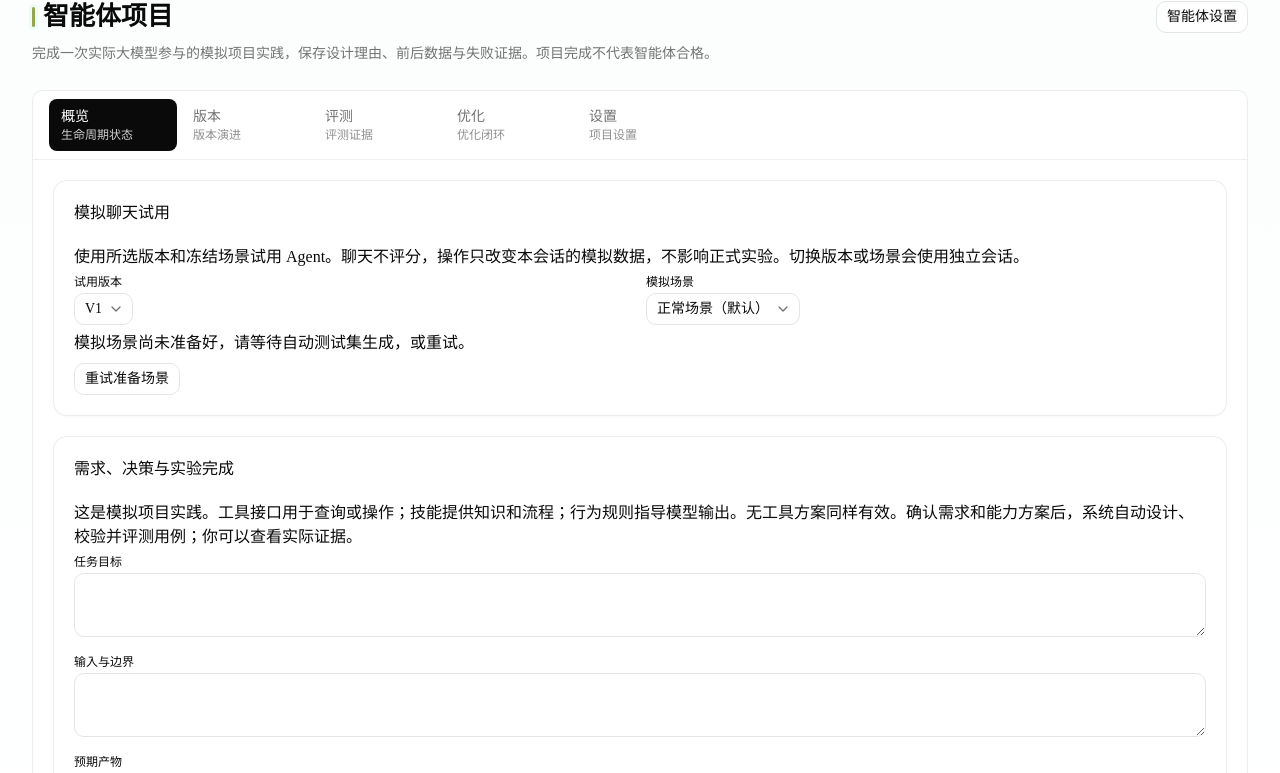
edits, disables and removes a case
Click the button "评测 评测证据".
click(377, 124)  # box x1=313 y1=98 x2=441 y2=150
(page scrolled)
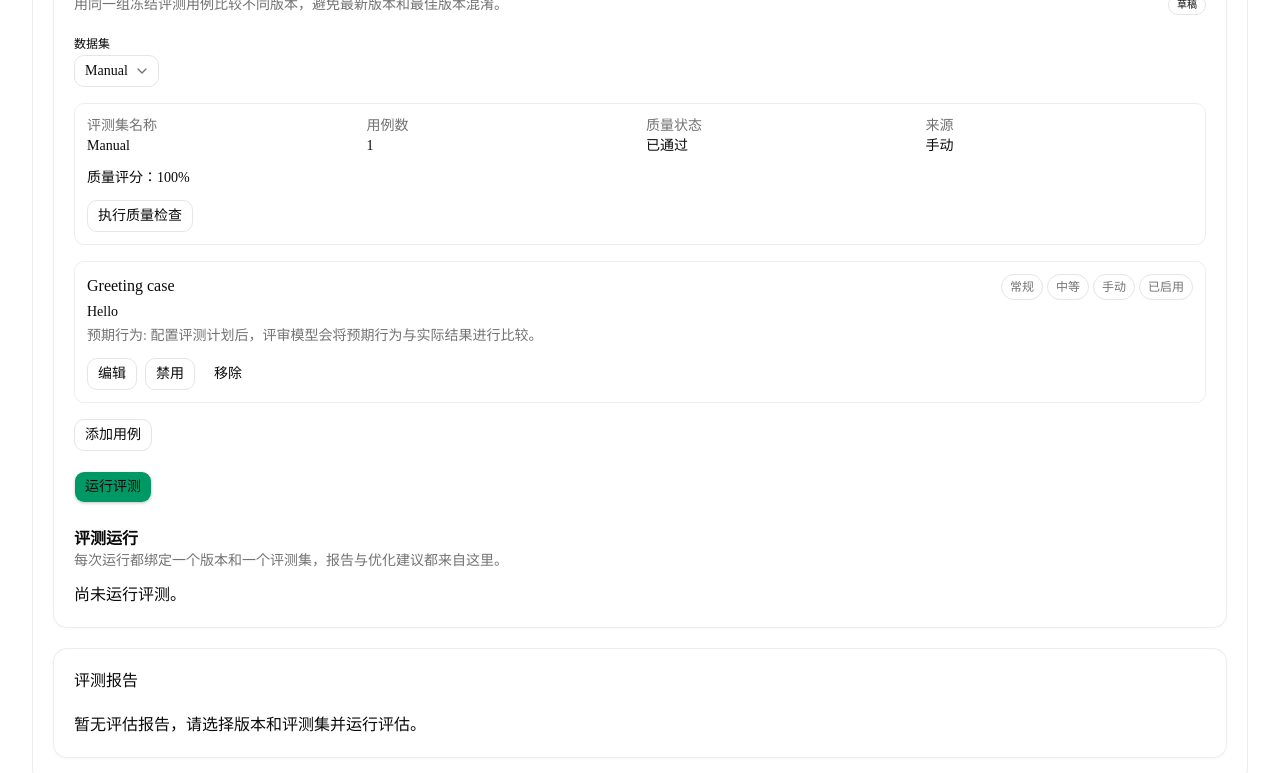
Click the button with aria-label "编辑Greeting case".
click(112, 374)  # box x1=87 y1=358 x2=137 y2=390
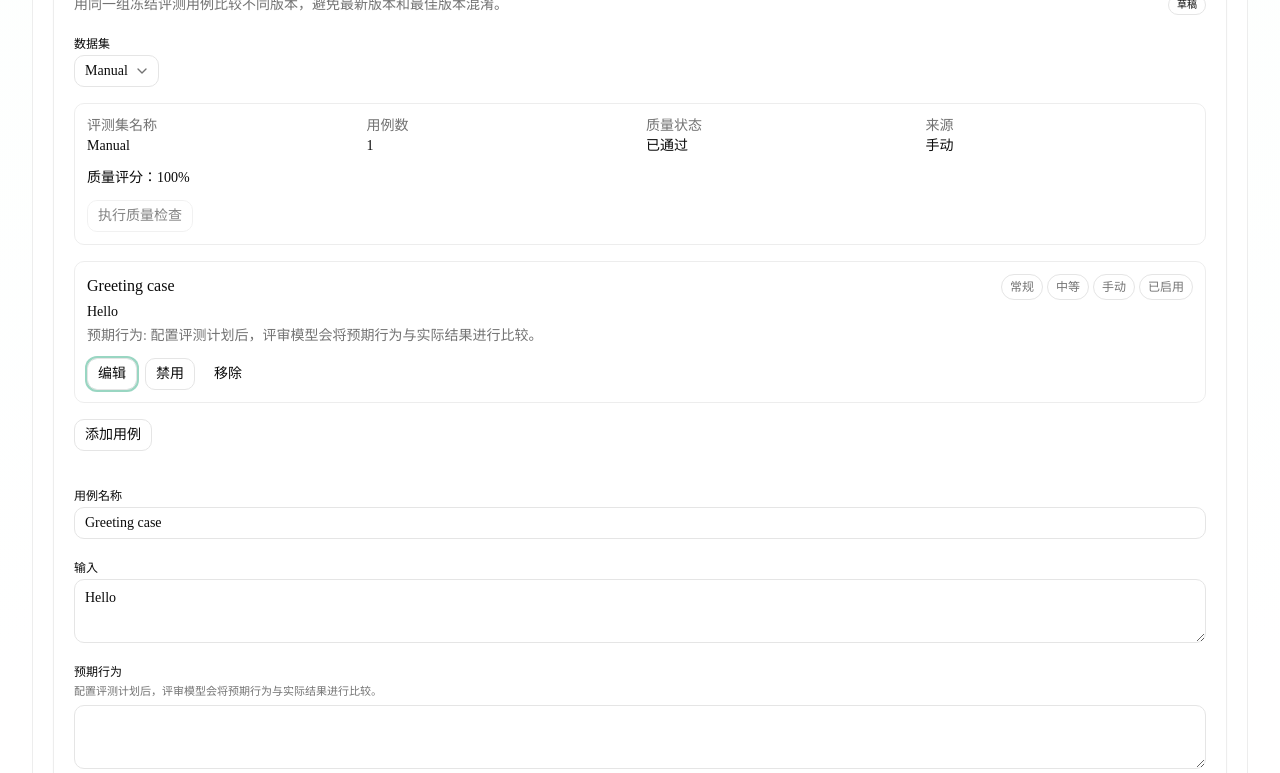
Replace the text in the field labelled "用例名称" with "Edited" at coordinates (640, 522), box x1=74 y1=506 x2=1206 y2=538
(page scrolled)
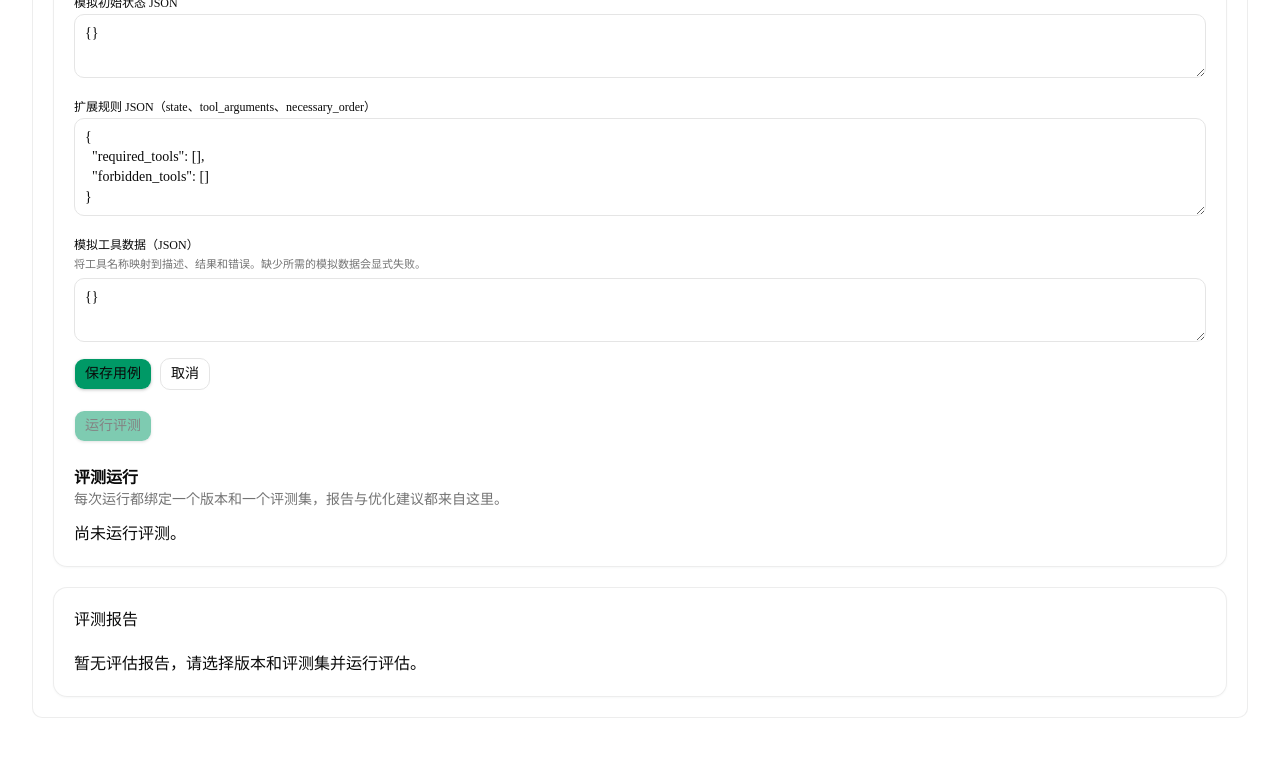
Click the button "保存用例".
click(113, 374)  # box x1=74 y1=358 x2=152 y2=390
(page scrolled)
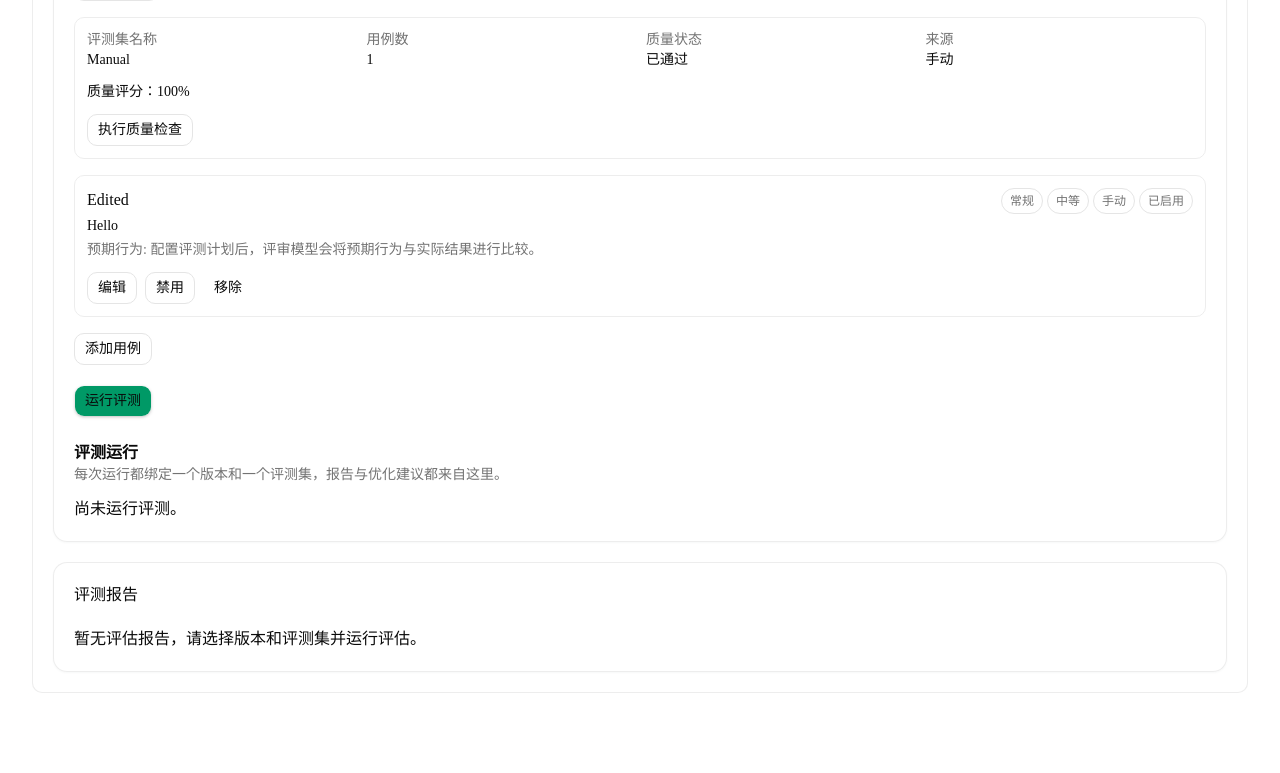
Click the button with aria-label "启用或禁用 Edited".
click(170, 288)  # box x1=145 y1=272 x2=195 y2=304
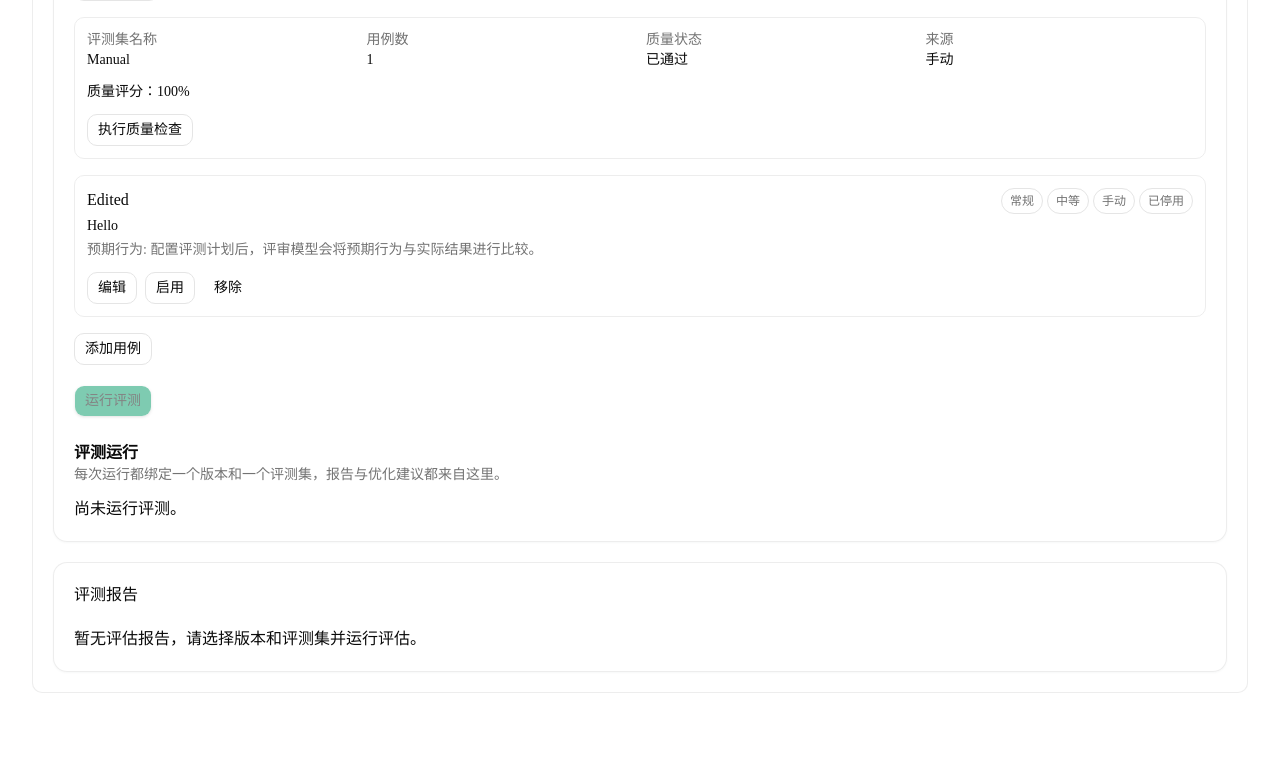
Expected: the button "运行评测" is disabled, x1=74 y1=384 x2=152 y2=416
Click the button with aria-label "删除Edited".
click(228, 288)  # box x1=203 y1=272 x2=253 y2=304
(page scrolled)
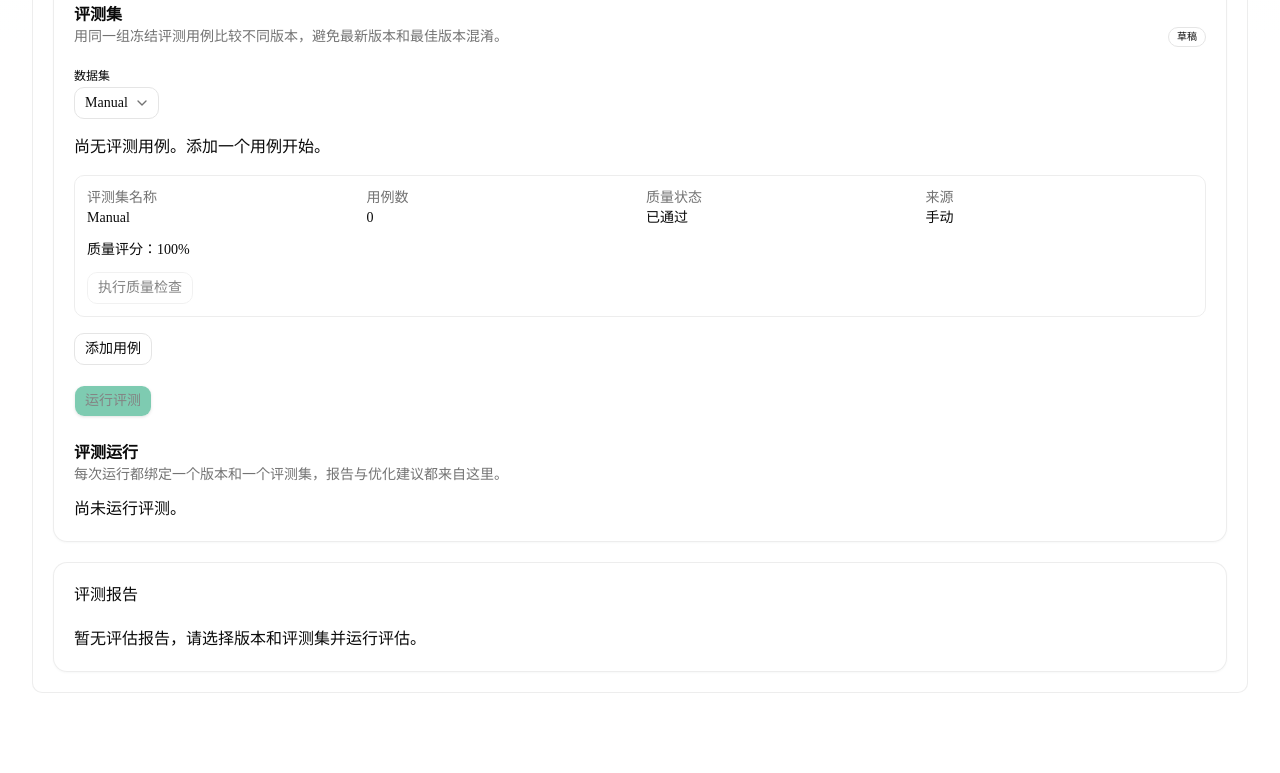
Expected: the text "尚无评测用例。添加一个用例开始。" is shown, x1=74 y1=138 x2=330 y2=154
